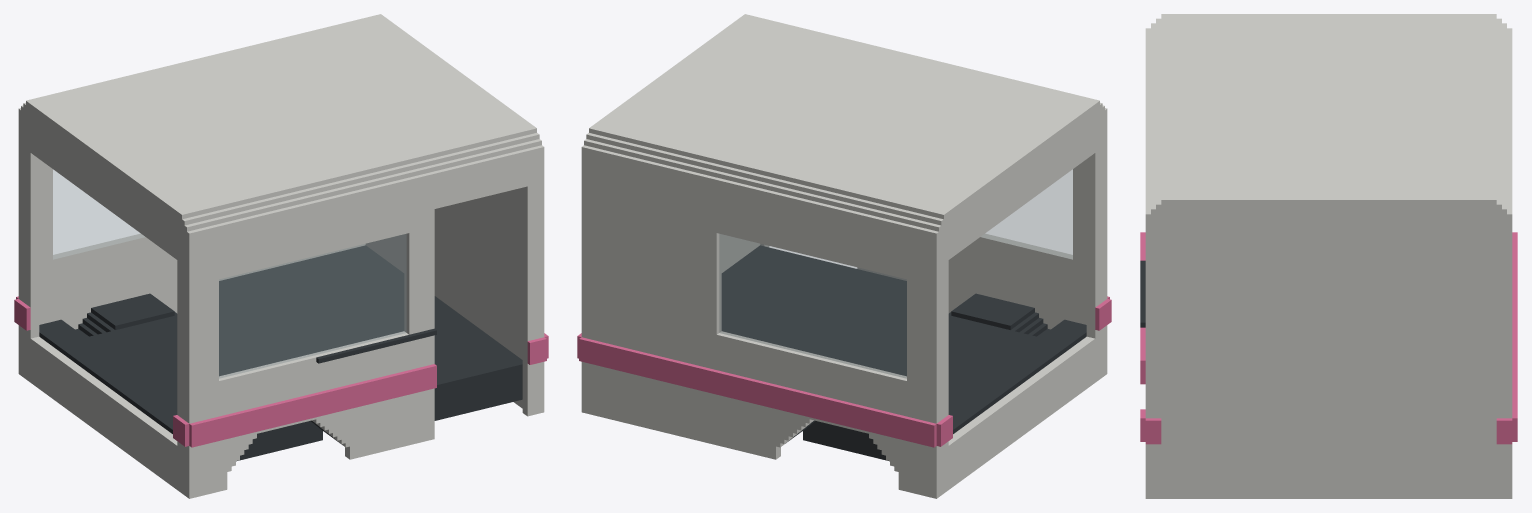
Rendered from ice_cream_van_box.glb.
The picture shows the model from 3 angles, left to right: view 1: azimuth 30°, elevation 25°; view 2: azimuth 150°, elevation 25°; view 3: azimuth 270°, elevation 25°; orthographic projection. The views are drawn at different scales.
Visible parts, largest first — view 1: body:compound; view 2: body:compound; view 3: body:compound.
Part boxes in pixels (x1,y1,x2,y2): body:compound: (14,14,548,498); body:compound: (577,14,1111,498); body:compound: (1140,14,1517,498).
Size of the model in its own units: 2.69 by 1.97 by 2.25.
